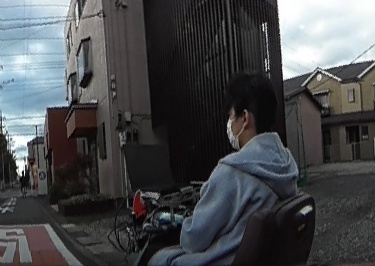person: (156, 72, 305, 266), (19, 169, 30, 196)
